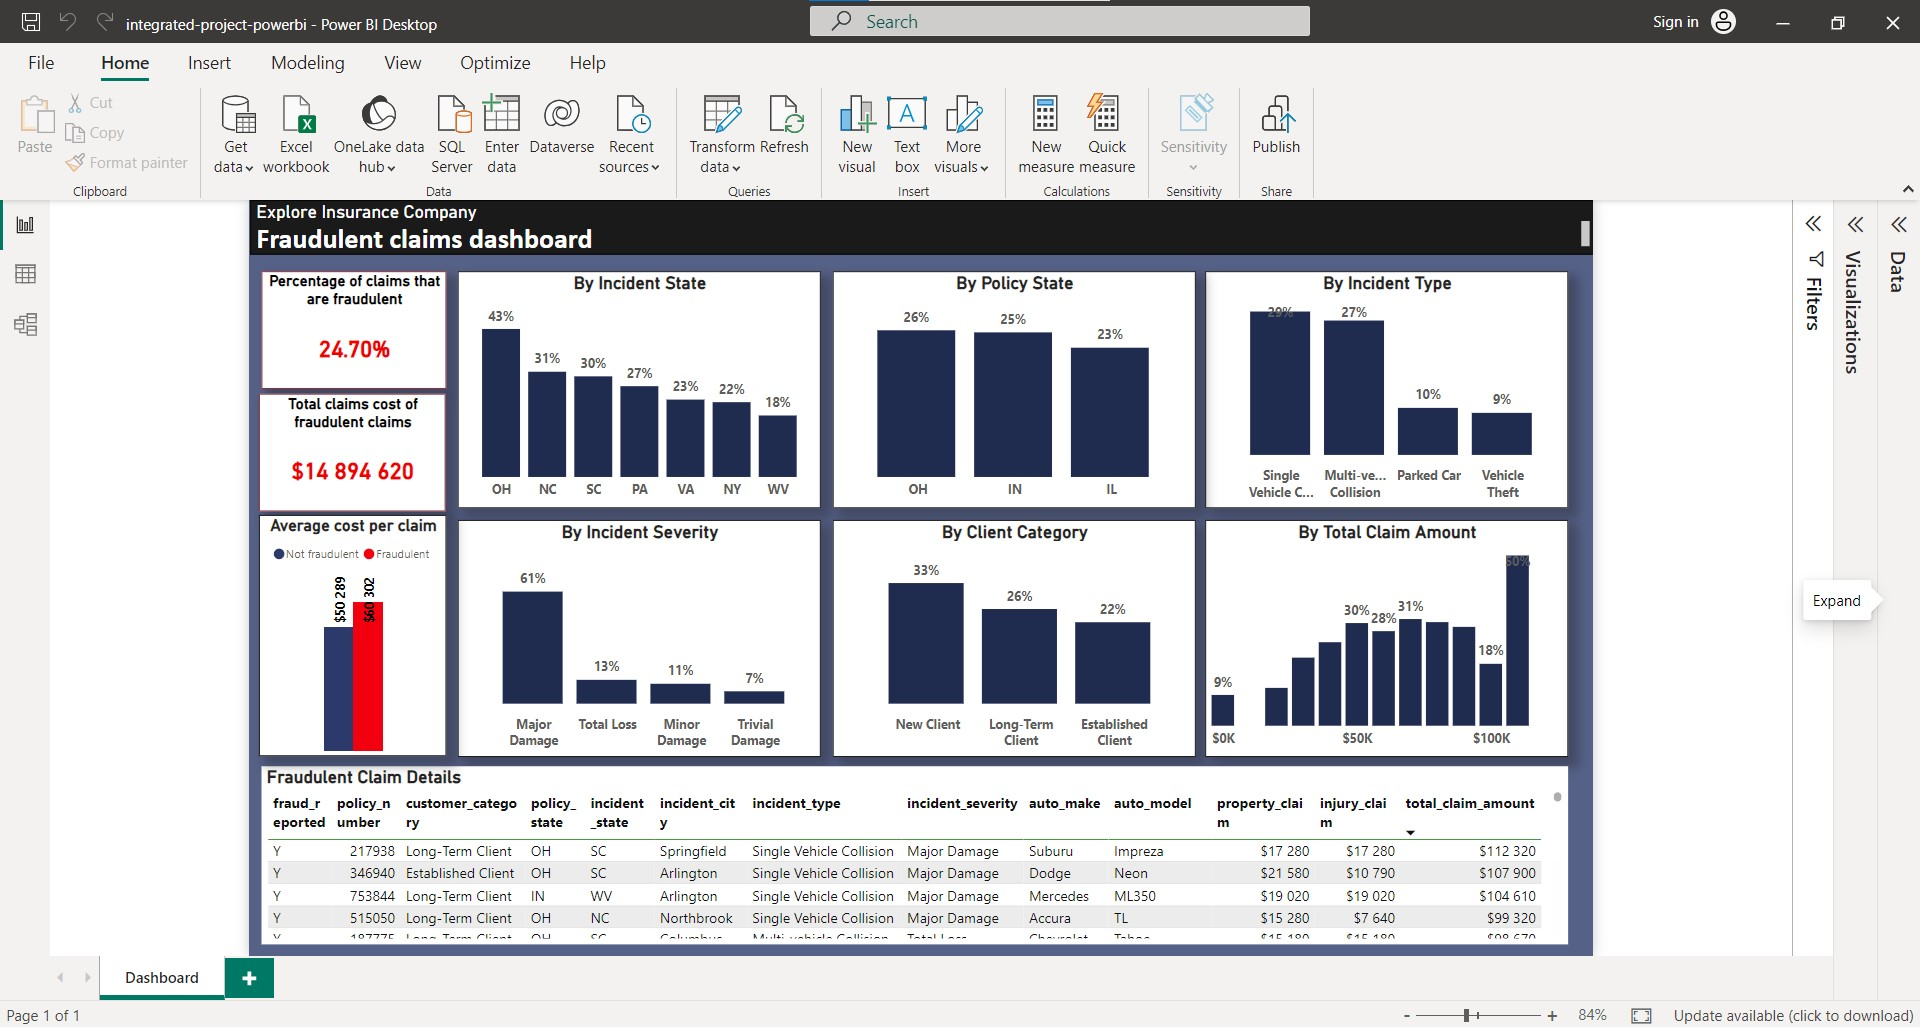

The dashboard page shown, as its layout file describes it:
{"tool":"powerbi","page":{"name":"Dashboard","canvas":[1280,720],"ordinal":0},"visuals":[{"type":"card","title":"Percentage of claims that are fraudulent","fields":{"Values":["Advanced Features Claims Data.Percentage Fraudulent (All Claims2)"]},"box":[12.3,68.3,176.1,111.9],"z":0},{"type":"card","title":"Total claims cost of fraudulent claims","fields":{"Values":["Advanced Features Claims Data.Total Fraudulent Claims Cost"]},"box":[9.6,184.3,177.5,111.9],"z":1000},{"type":"columnChart","title":"By Incident State","fields":{"Y":["Advanced Features Claims Data.Percentage Fraudulent"],"Category":["Advanced Features Claims Data.incident_state"]},"box":[199.3,68.3,345.4,225.3],"z":2000},{"type":"textbox","title":"Explore Insurance Company","box":[1.4,0,1279.2,51.9],"z":3000},{"type":"columnChart","title":"By Incident Severity","fields":{"Y":["Advanced Features Claims Data.Percentage Fraudulent"],"Category":["Advanced Features Claims Data.incident_severity"]},"box":[199.3,304.4,345.4,225.3],"z":4000},{"type":"columnChart","title":"By Incident Type","fields":{"Y":["Advanced Features Claims Data.Percentage Fraudulent"],"Category":["Advanced Features Claims Data.incident_type"]},"box":[910.6,68.3,345.4,225.3],"z":5000},{"type":"columnChart","title":"By Policy State","fields":{"Y":["Advanced Features Claims Data.Percentage Fraudulent"],"Category":["Advanced Features Claims Data.policy_state"]},"box":[555.6,68.3,345.4,225.3],"z":6000},{"type":"columnChart","title":"By Client Category","fields":{"Y":["Advanced Features Claims Data.Percentage Fraudulent"],"Category":["Advanced Features Claims Data.customer_category"]},"box":[555.6,304.4,345.4,225.3],"z":7000},{"type":"columnChart","title":"By Total Claim Amount","fields":{"Y":["Advanced Features Claims Data.Percentage Fraudulent"],"Category":["Advanced Features Claims Data.total_claim_amount (bins)"]},"box":[910.6,304.4,345.4,225.3],"z":8000},{"type":"textbox","box":[10.5,853.5,782,52.4],"z":9000},{"type":"tableEx","fields":{"Values":["Advanced Features Claims Data.incident_date.Variation.Date Hierarchy.Year","Advanced Features Claims Data.incident_date.Variation.Date Hierarchy.Month","Advanced Features Claims Data.policy_number","Advanced Features Claims Data.incident_type","Advanced Features Claims Data.incident_state","Advanced Features Claims Data.fraud_reported","Advanced Features Claims Data.total_claim_amount"]},"box":[10,906,782,150],"z":10000},{"type":"tableEx","title":"Fraudulent Claim Details","fields":{"Values":["Advanced Features Claims Data.fraud_reported","Advanced Features Claims Data.policy_number","Advanced Features Claims Data.customer_category","Advanced Features Claims Data.policy_state","Advanced Features Claims Data.incident_state","Advanced Features Claims Data.incident_city","Advanced Features Claims Data.incident_type","Advanced Features Claims Data.incident_severity","Advanced Features Claims Data.auto_make","Advanced Features Claims Data.auto_model","Advanced Features Claims Data.property_claim","Advanced Features Claims Data.injury_claim"]},"box":[12.3,539.3,1243.7,169.3],"z":11000},{"type":"clusteredColumnChart","title":"Average cost per claim","fields":{"Y":["Advanced Features Claims Data.Average Cost of Non-Fraudulent Claims","Advanced Features Claims Data.Average Cost of Fraudulent Claims"]},"box":[9.5,299.9,178.5,229.7],"z":12000}]}

Visuals, with their boxes on the page's 1280x720 design canvas (x1, y1, x2, y2). These are canvas units, not pixel positions in the 1920x1027 screenshot, which may show the page scaled, cropped or inside an application window:
"Percentage of claims that are fraudulent" card: <bbox>12, 68, 188, 180</bbox>
"Total claims cost of fraudulent claims" card: <bbox>10, 184, 187, 296</bbox>
"By Incident State" columnChart: <bbox>199, 68, 545, 294</bbox>
"Explore Insurance Company" textbox: <bbox>1, 0, 1281, 52</bbox>
"By Incident Severity" columnChart: <bbox>199, 304, 545, 530</bbox>
"By Incident Type" columnChart: <bbox>911, 68, 1256, 294</bbox>
"By Policy State" columnChart: <bbox>556, 68, 901, 294</bbox>
"By Client Category" columnChart: <bbox>556, 304, 901, 530</bbox>
"By Total Claim Amount" columnChart: <bbox>911, 304, 1256, 530</bbox>
textbox: <bbox>10, 854, 792, 906</bbox>
tableEx - Advanced Features Claims Data.incident_date.Variation.Date Hierarchy.Year x Advanced Features Claims Data.incident_date.Variation.Date Hierarchy.Month: <bbox>10, 906, 792, 1056</bbox>
"Fraudulent Claim Details" tableEx: <bbox>12, 539, 1256, 709</bbox>
"Average cost per claim" clusteredColumnChart: <bbox>10, 300, 188, 530</bbox>
